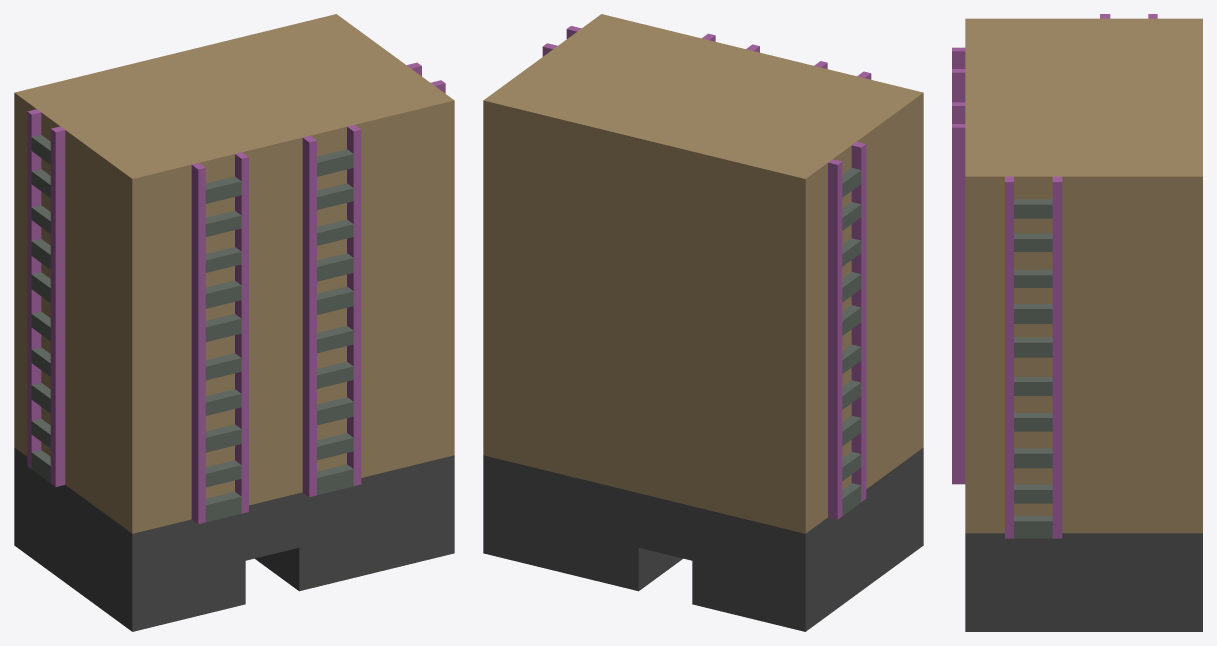
The model's file is SovietApartment1_UVDone_FBX.fbx.
The picture shows the model from 3 angles, left to right: view 1: azimuth 30°, elevation 25°; view 2: azimuth 150°, elevation 25°; view 3: azimuth 270°, elevation 25°; orthographic projection.
Parts seen in each view (by area): view 1: SovietApartment1_UVDone:Apartment_1; view 2: SovietApartment1_UVDone:Apartment_1; view 3: SovietApartment1_UVDone:Apartment_1.
Boxes of the visible parts, box(x1,y1,x2,y2) form: SovietApartment1_UVDone:Apartment_1: box(14, 14, 454, 631); SovietApartment1_UVDone:Apartment_1: box(483, 14, 923, 631); SovietApartment1_UVDone:Apartment_1: box(952, 14, 1202, 631).
Bounding box in the file's own units: 24.32 × 30.72 × 15.35.
